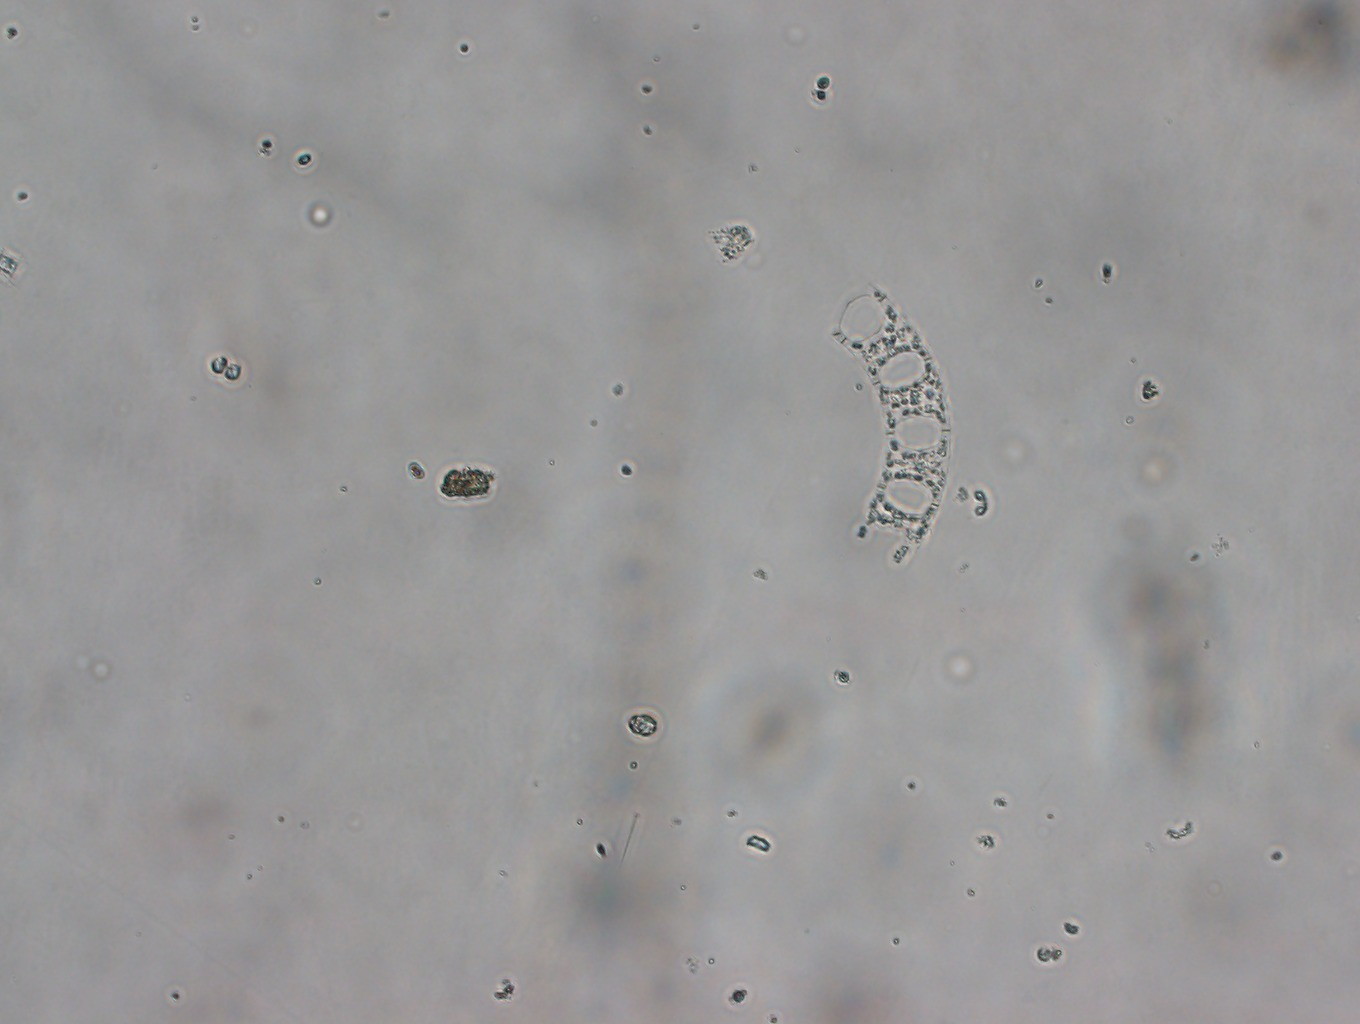eucampia: (811, 272, 958, 577)
